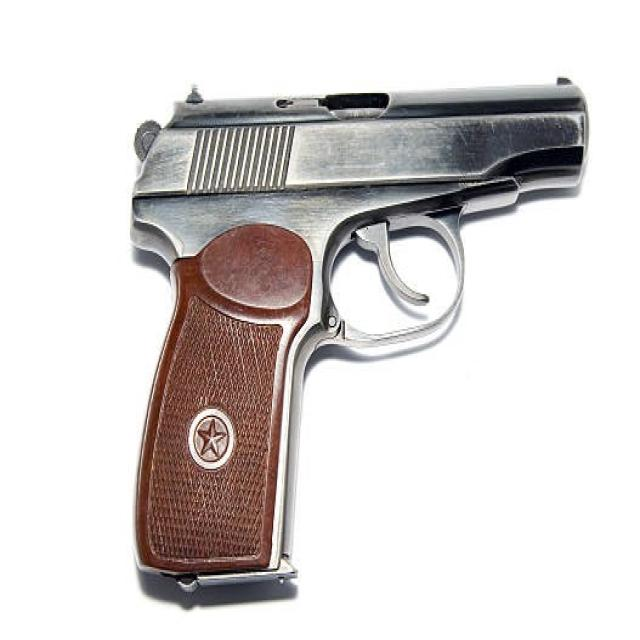pistol: (123, 68, 603, 617)
